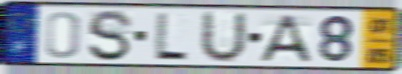0: (44, 10, 83, 60)
8: (316, 13, 356, 65)
A: (256, 13, 313, 64)
L: (151, 11, 190, 63)
S: (86, 8, 135, 63)
U: (197, 9, 249, 65)
